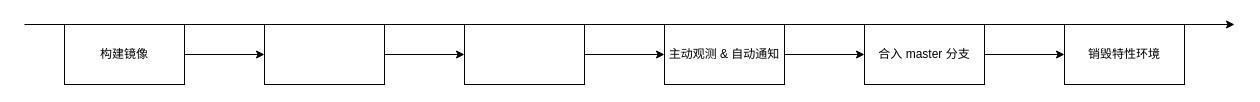
The diagram is 1260 pixels wide and 102 high, and some of its shapes have lost their labels. Here are the shapes that lost their labels. From the top down, the centre of each, then its label:
At [324,54]: "滚动升级".
At [524,54]: "线上回归".
